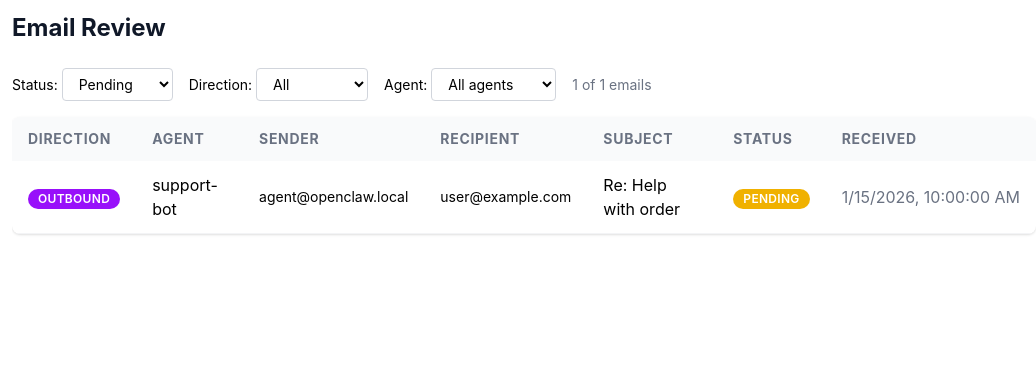
Test case: EmailReviewPage › renders message with no body text
The image size is (1036, 383).
Click the text "Re: Help with order": (652, 197) [587,161,717,234]
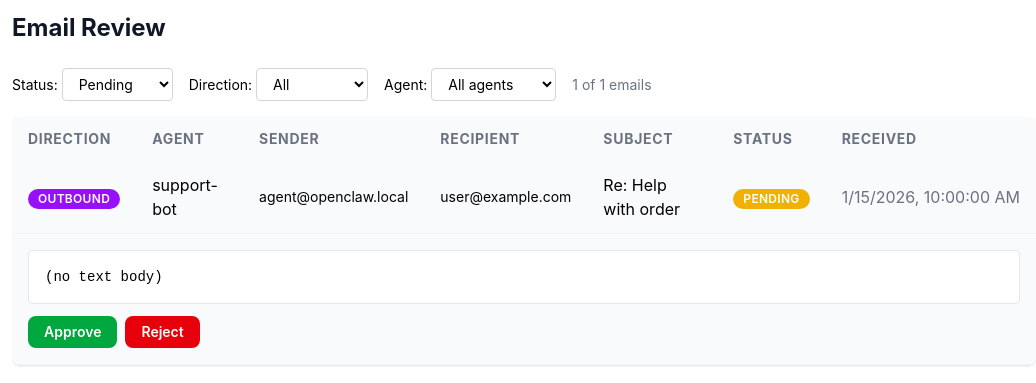
Check: the text "(no text body)" is shown, box [28,250,1020,304]
